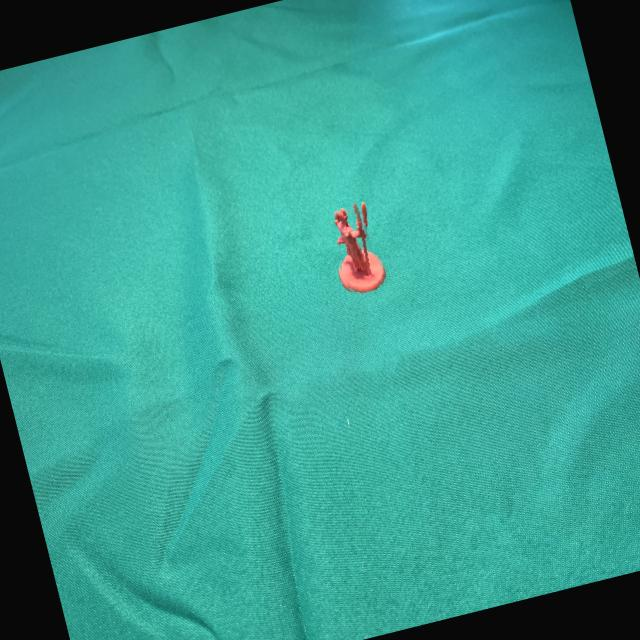amon_follower: (335, 202, 386, 292)
